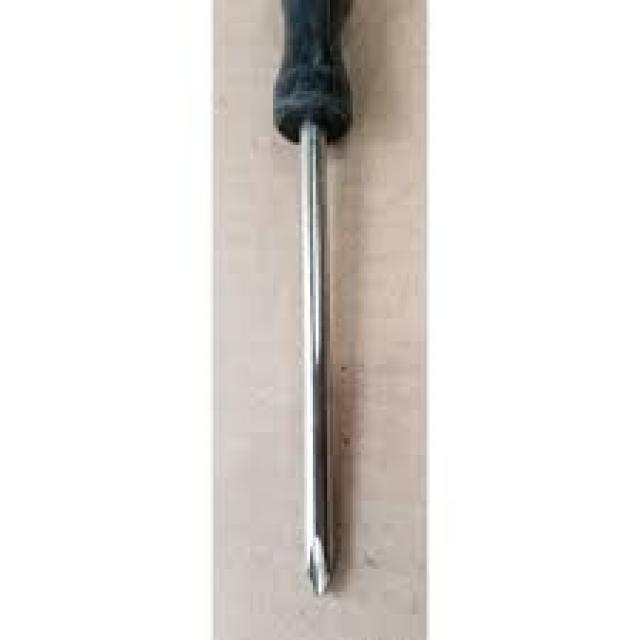screwdriver: (266, 0, 357, 606)
